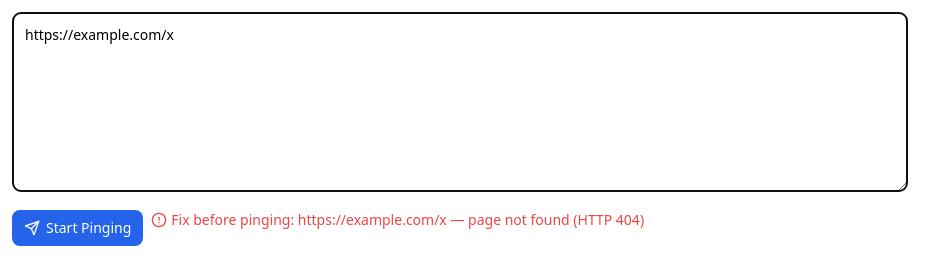
Scenario: URLInput Component › the address check's message is shown, hidden after an edit, and shown again when a new one arrives
Earlier steps of the test are not shown.
Later steps or results of the test are not shown.
expect the 2nd icon is shown: met, box [151,212,167,228]
expect the button "Start Pinging" is enabled: met, box [12,210,143,246]
Type "y" into the text box with placeholder "Enter up to 5 URLs (one per line)" at (460, 102), box [12,12,908,192]
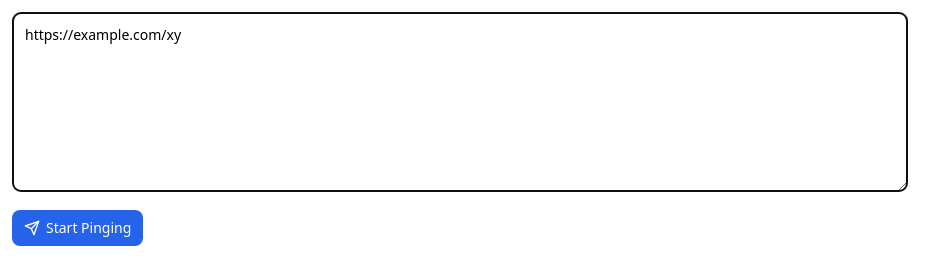
expect the text "Fix before pinging: https://example.com/x — page not found (HTTP 404)" is gone: met
